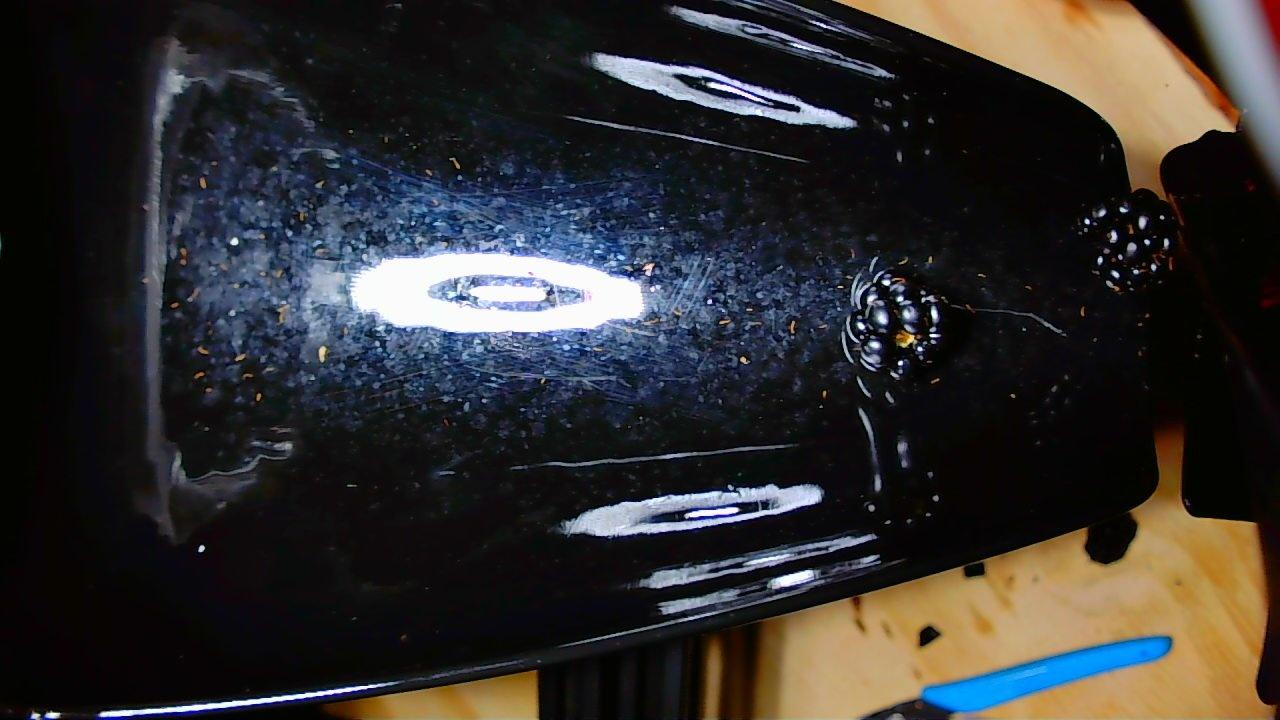berry: (841, 270, 950, 379), (1075, 188, 1179, 293)
